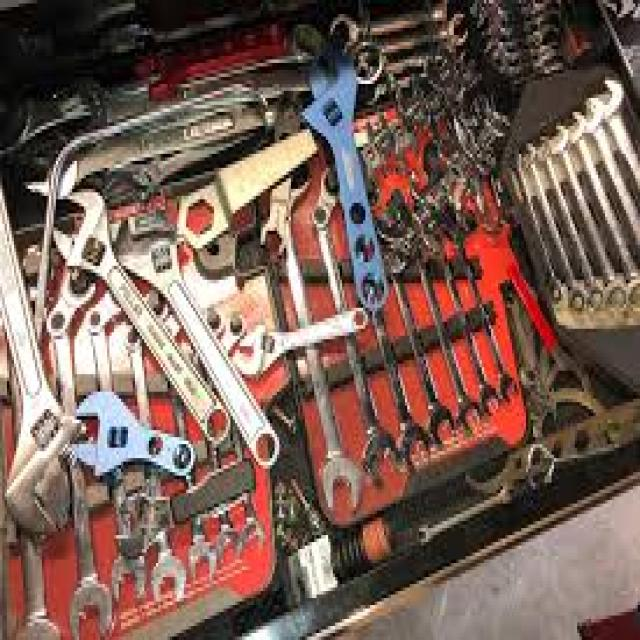wrench: (0, 168, 86, 522), (41, 167, 126, 306), (110, 179, 198, 313)
